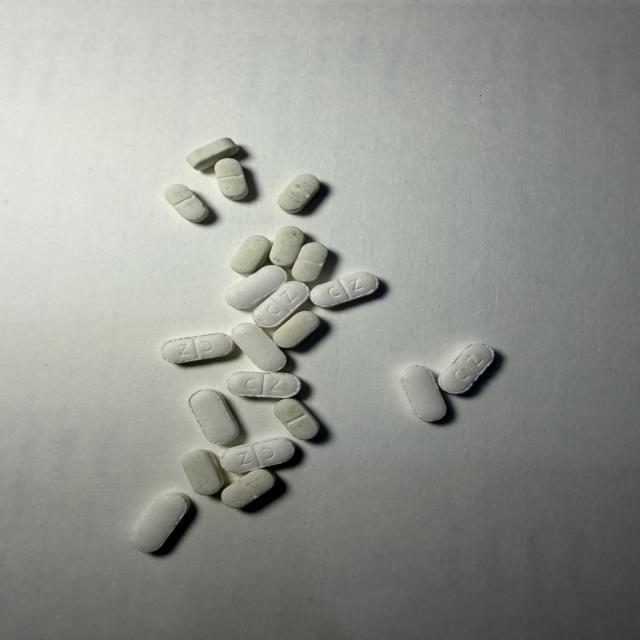pill: (132, 493, 190, 552), (189, 389, 239, 444), (438, 344, 494, 393), (226, 265, 286, 309), (253, 281, 309, 328), (232, 323, 286, 371), (221, 437, 295, 472), (401, 366, 446, 421), (311, 272, 379, 307), (162, 333, 234, 363), (221, 469, 275, 508), (228, 372, 301, 398), (274, 398, 319, 439), (182, 450, 223, 495), (273, 311, 320, 348), (187, 138, 238, 170), (278, 174, 319, 213), (165, 185, 208, 222), (231, 236, 271, 274), (292, 242, 328, 283), (215, 158, 248, 200), (270, 227, 304, 267)
